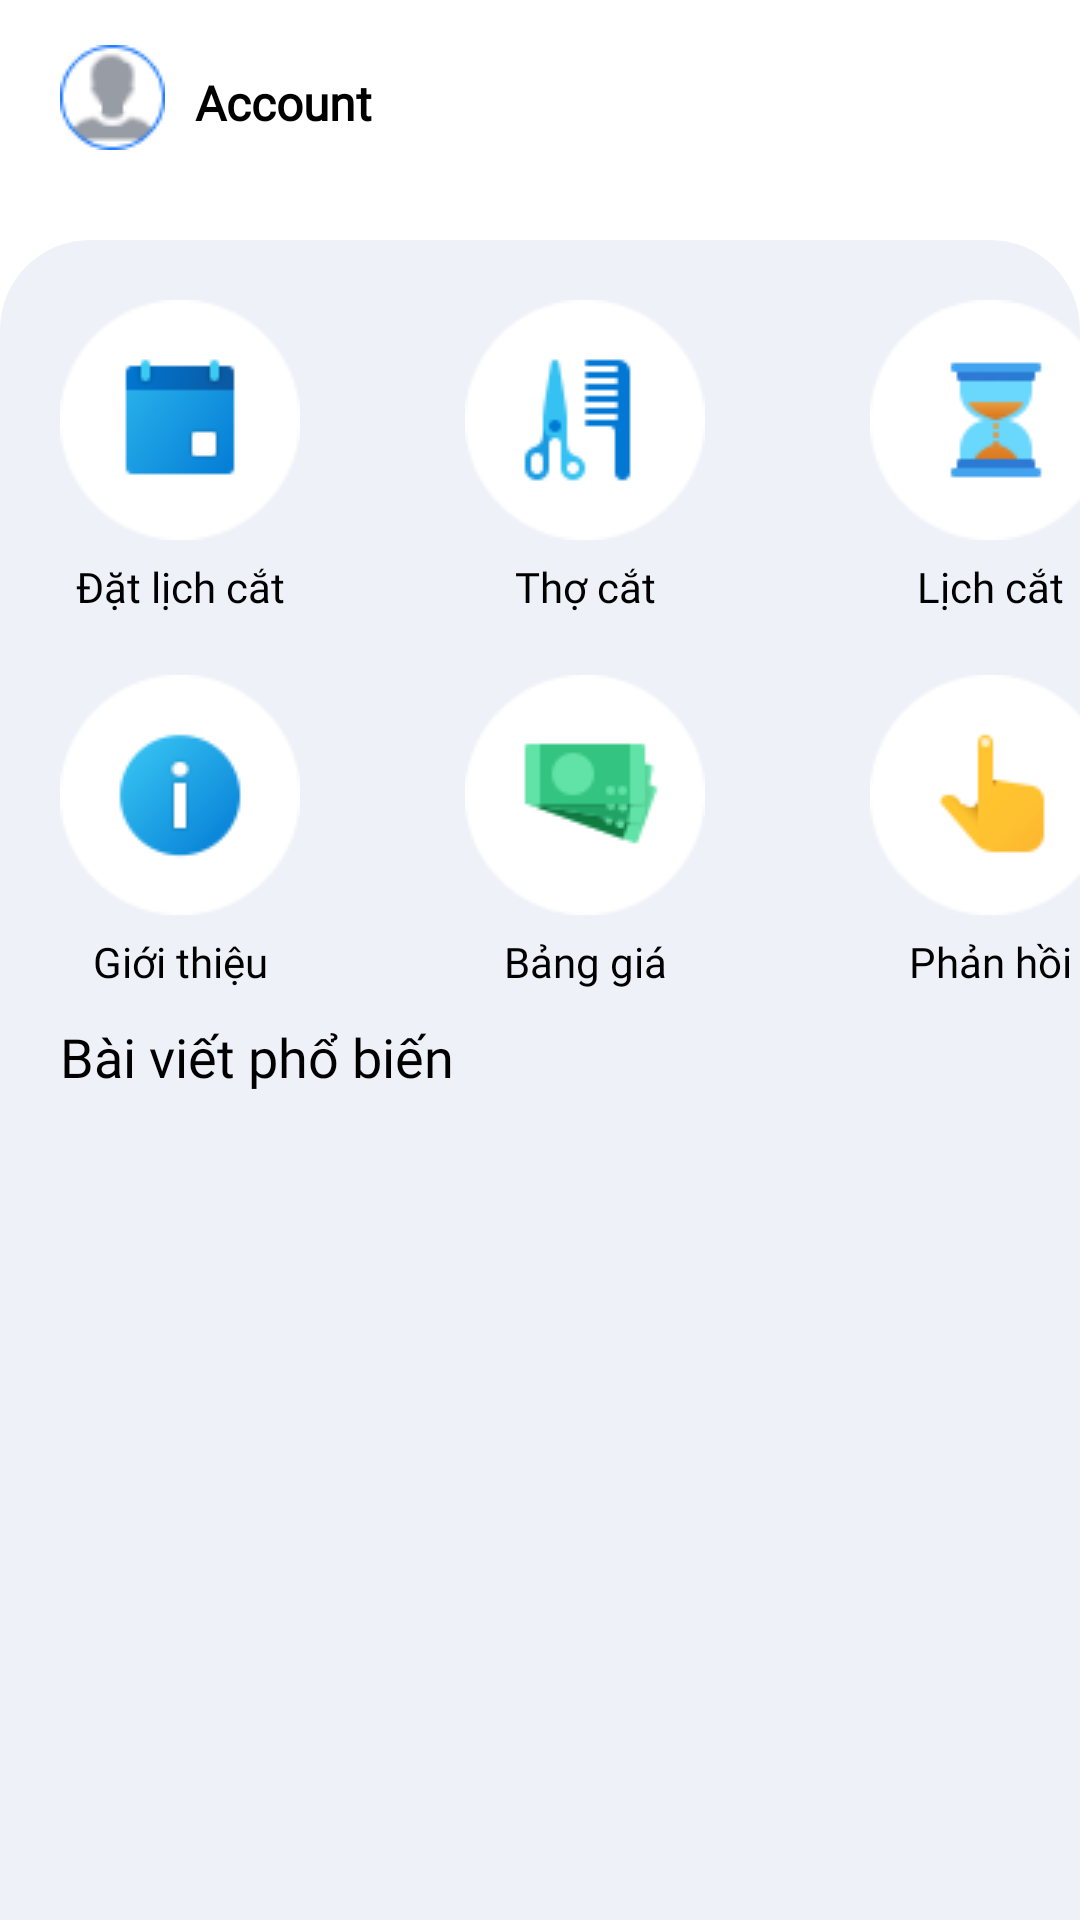

Icon click points for this 1080px×1920px phone screenshot, format (x,y):
bang gia: (590,793)
dat lich cat toc: (180,417)
gioi thieu: (180,795)
